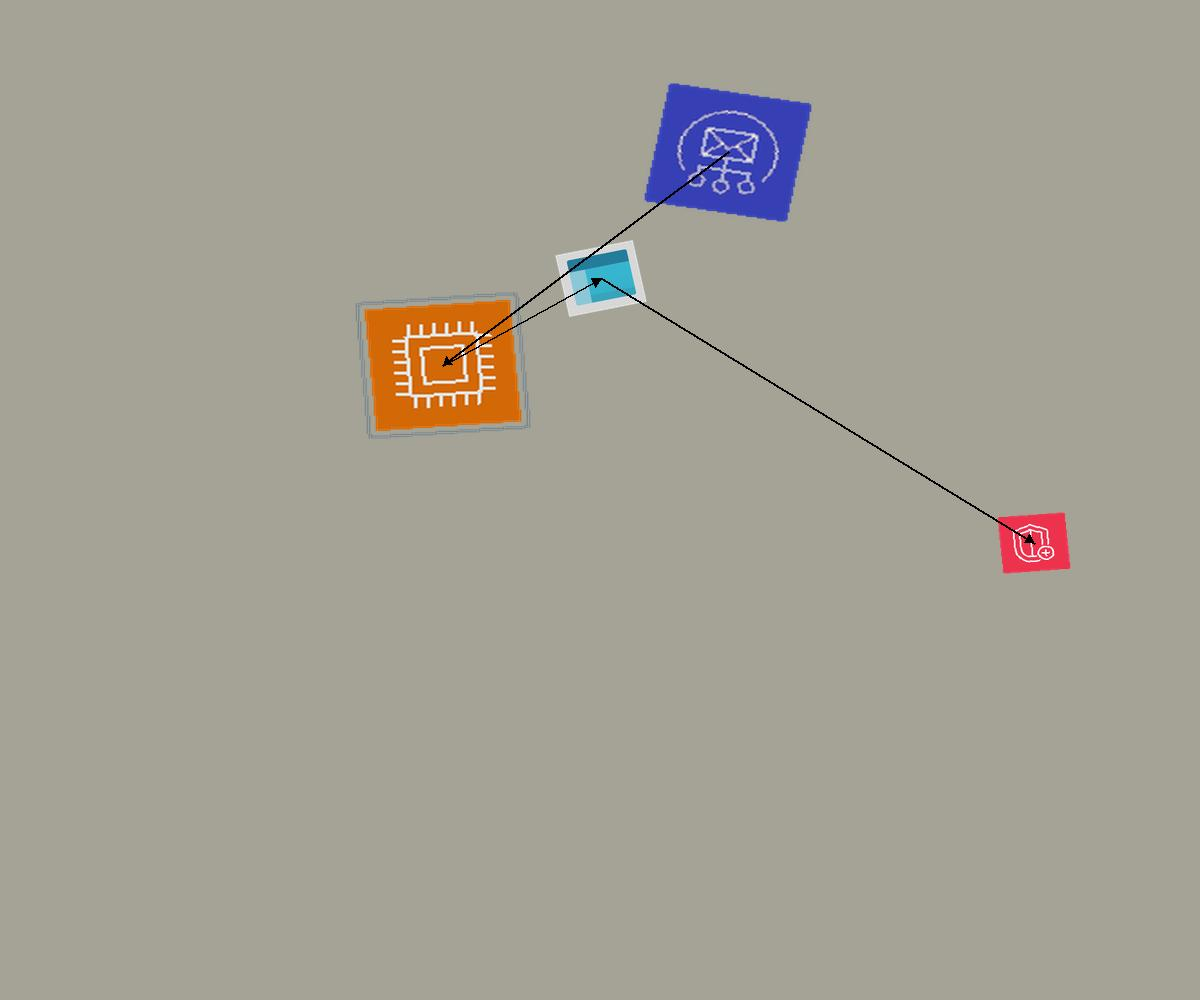AWS-Category_Compute: (354, 291, 532, 440)
AWS-Shield: (997, 512, 1071, 574)
AWS-Simple-Email-Service: (643, 82, 813, 223)
Azure_management-portal: (555, 240, 647, 317)
